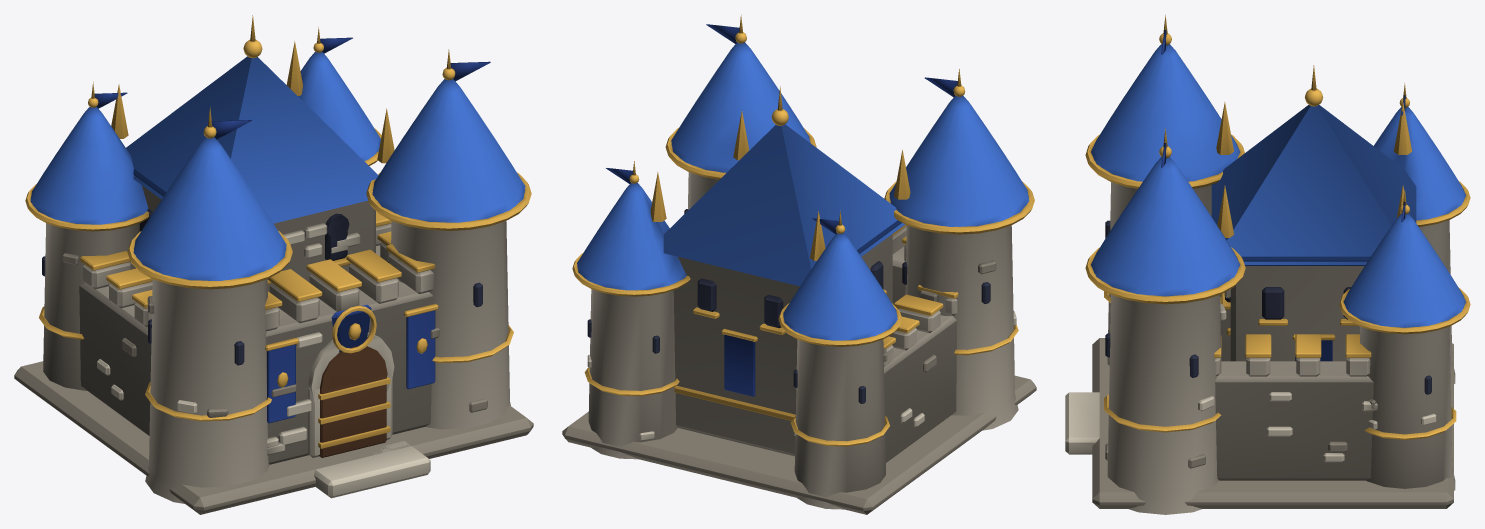
The model's file is castle_lv3.glb.
3 renders of one model, left to right at view 1: azimuth 30°, elevation 25°; view 2: azimuth 150°, elevation 25°; view 3: azimuth 270°, elevation 25°, orthographic. The views are drawn at different scales.
Parts seen in each view (by area): view 1: Castle; view 2: Castle; view 3: Castle.
Part boxes in pixels (x1=…): Castle: x1=14, y1=15, x2=533, y2=514; Castle: x1=562, y1=14, x2=1036, y2=514; Castle: x1=1065, y1=15, x2=1470, y2=514.
Size of the model in its own units: 2.3 by 2.19 by 2.18.
1 material, 1 textured.
